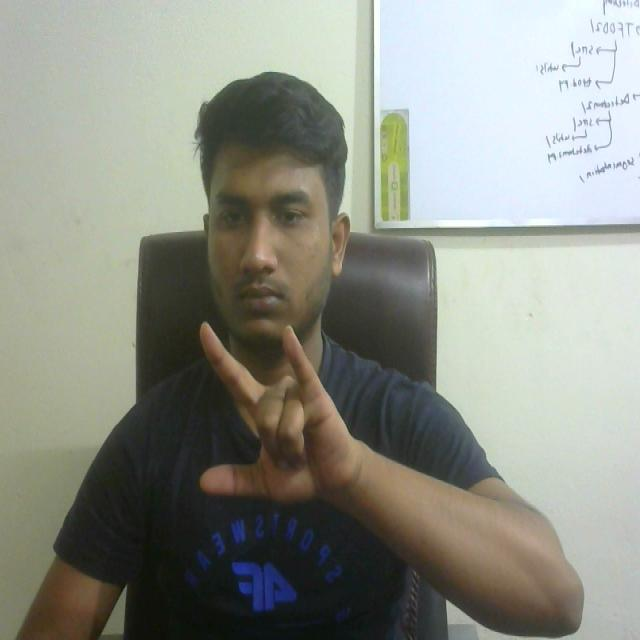B: (187, 302, 347, 530)
